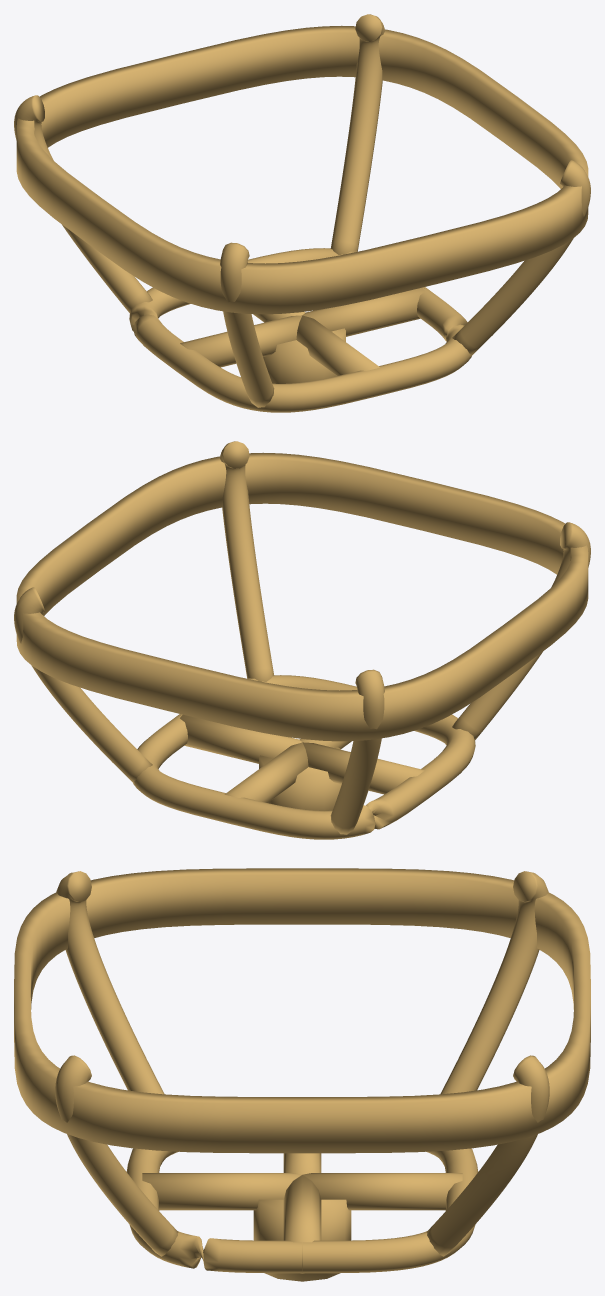
Rendered from stuller-lg-500061581-bezel.glb.
3 views of the same model, one above another, from view 1: azimuth 30°, elevation 25°; view 2: azimuth 150°, elevation 25°; view 3: azimuth 270°, elevation 25° (orthographic). The views are drawn at different scales.
Parts seen in each view (by area): view 1: Metal.160, Metal.155, Metal.161, Metal.164, Metal.163, Metal.156, Metal.162, Metal.159, Metal.158, Metal.154; view 2: Metal.160, Metal.155, Metal.164, Metal.161, Metal.162, Metal.156, Metal.163, Metal.157, Metal.158, Metal.154; view 3: Metal.160, Metal.155, Metal.162, Metal.163, Metal.164, Metal.161, Metal.157, Metal.159, Metal.154, Metal.156, Metal.158.
Part boxes in pixels (x1=…): Metal.160: x1=16, y1=25, x2=588, y2=314; Metal.155: x1=129, y1=248, x2=471, y2=412; Metal.161: x1=330, y1=14, x2=384, y2=254; Metal.164: x1=452, y1=160, x2=590, y2=356; Metal.163: x1=220, y1=242, x2=274, y2=407; Metal.156: x1=303, y1=287, x2=424, y2=336; Metal.162: x1=14, y1=95, x2=152, y2=313; Metal.159: x1=296, y1=315, x2=380, y2=375; Metal.158: x1=180, y1=315, x2=302, y2=367; Metal.154: x1=263, y1=320, x2=345, y2=383; Metal.160: x1=16, y1=452, x2=588, y2=741; Metal.155: x1=133, y1=675, x2=475, y2=839; Metal.164: x1=220, y1=441, x2=274, y2=681; Metal.161: x1=14, y1=587, x2=152, y2=783; Metal.162: x1=330, y1=669, x2=384, y2=834; Metal.156: x1=180, y1=714, x2=301, y2=763; Metal.163: x1=452, y1=522, x2=590, y2=740; Metal.157: x1=224, y1=742, x2=308, y2=802; Metal.158: x1=302, y1=742, x2=424, y2=794; Metal.154: x1=259, y1=747, x2=341, y2=810; Metal.160: x1=14, y1=868, x2=590, y2=1153; Metal.155: x1=126, y1=1148, x2=478, y2=1273; Metal.162: x1=440, y1=871, x2=548, y2=1094; Metal.163: x1=56, y1=871, x2=164, y2=1094; Metal.164: x1=55, y1=1055, x2=178, y2=1256; Metal.161: x1=426, y1=1055, x2=549, y2=1256; Metal.157: x1=303, y1=1173, x2=462, y2=1210; Metal.159: x1=142, y1=1173, x2=301, y2=1210; Metal.154: x1=253, y1=1199, x2=351, y2=1281; Metal.156: x1=283, y1=1175, x2=321, y2=1273; Metal.158: x1=283, y1=1153, x2=321, y2=1174.
Size of the model in its own units: 6.83 by 4.02 by 7.07.
